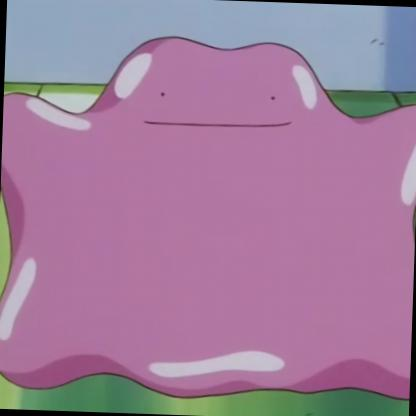Ditto: (1, 1, 416, 376)
